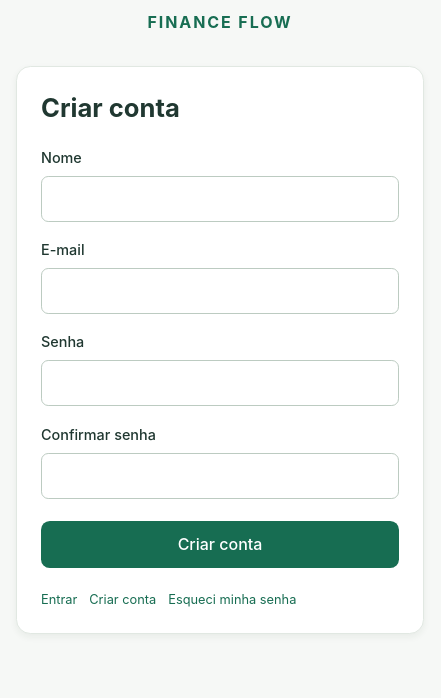
autenticação Web › cadastro pede confirmação de email
The image size is (441, 698).
Type "Arthur" into the field labelled "Nome" at [220, 199], box left=41, top=176, right=399, bottom=222
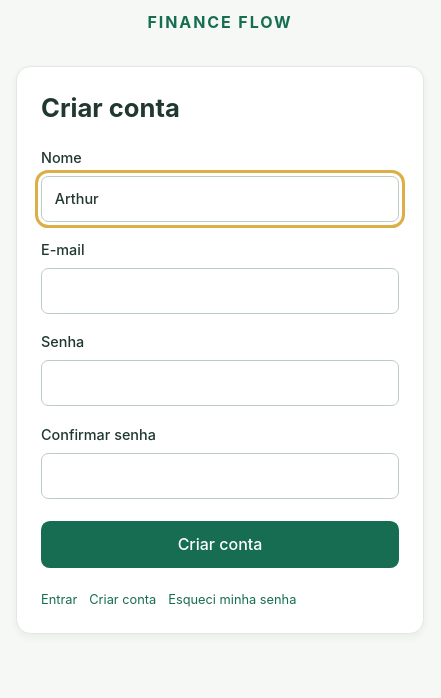
Type "test@example.com" into the field labelled "E-mail" at [220, 291], box left=41, top=268, right=399, bottom=314
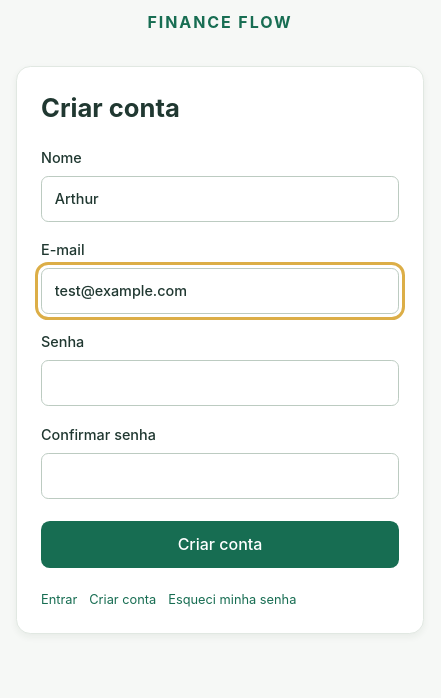
Type "password123" into the password field labelled "Senha" at [220, 383], box left=41, top=360, right=399, bottom=406
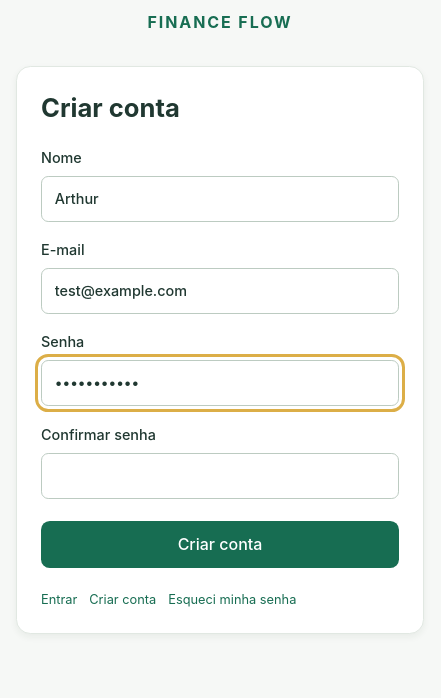
Type "password123" into the password field labelled "Confirmar senha" at [220, 476], box left=41, top=453, right=399, bottom=499
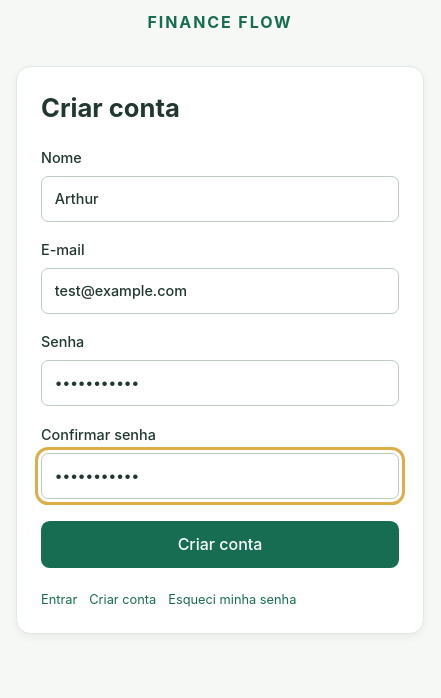
Click the button "Criar conta" at [220, 544], box left=41, top=521, right=399, bottom=568
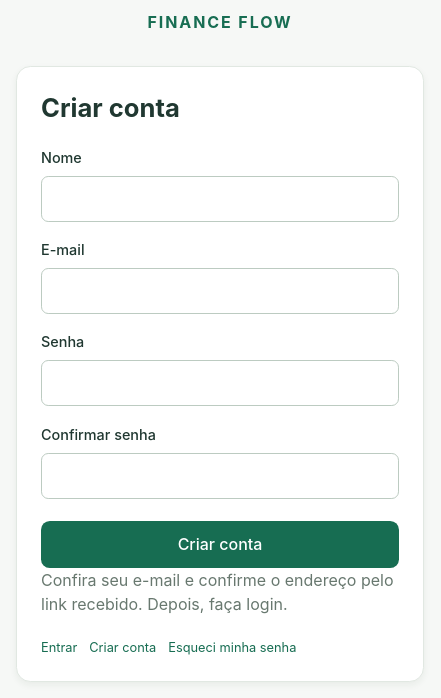
Now the message shows "confirme o endereço", box left=41, top=570, right=394, bottom=614
